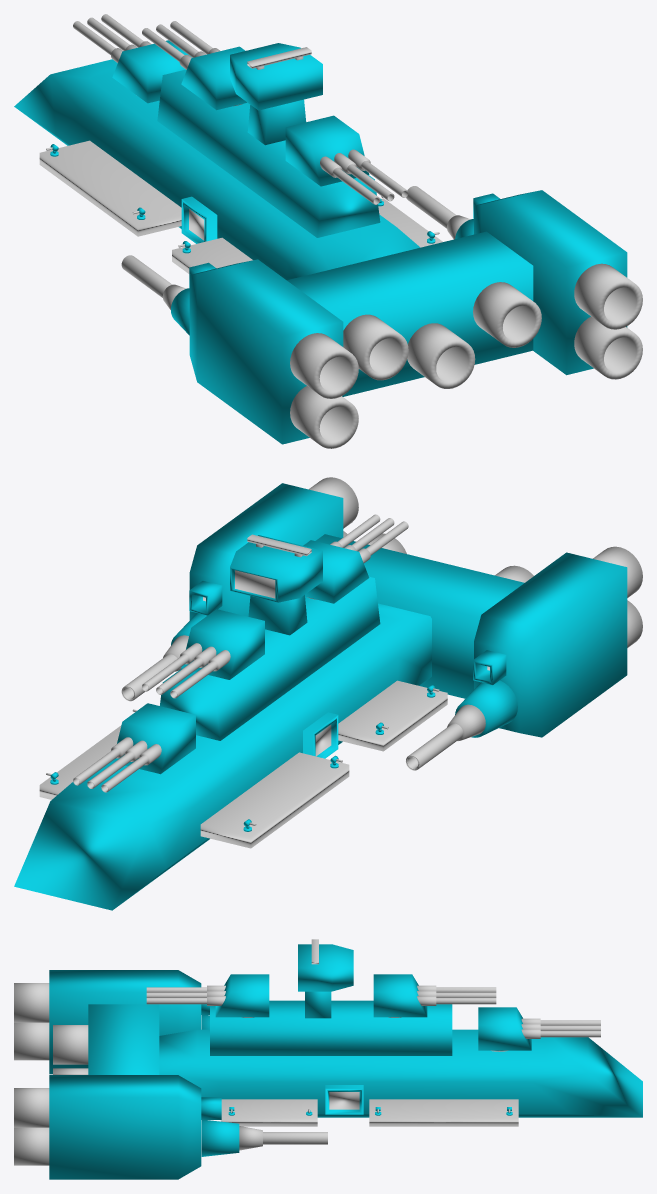
Rendered from zcarrier1.fbx.
3 views of the same model, one above another, from view 1: azimuth 30°, elevation 25°; view 2: azimuth 150°, elevation 25°; view 3: azimuth 270°, elevation 25° (orthographic). The views are drawn at different scales.
Visible parts, largest first — view 1: Cube.002, Hull, Cube.007, Cube.004, enginemid.002, Cube.001, enginemid.001, enginemid.003, Cube, Cube.012, enginemid, Cube.003 (+9 smaller); view 2: Hull, Cube.002, Cube.004, Cube.007, Cube.001, Cube, Cube.003, Cube.010, Cube.008, Cube.012, Cylinder.002, enginemid.002 (+9 smaller); view 3: Hull, Cube.002, Cube.004, Cube.007, Cube.001, enginemid.002, enginemid.003, Cube.003, Cube, Cube.010, Cube.012, Cube.008 (+13 smaller).
Part boxes in pixels (x1,y1,x2,y2): Cube.002: [189, 190, 627, 444]; Hull: [14, 59, 419, 280]; Cube.007: [287, 231, 533, 396]; Cube.004: [157, 69, 380, 237]; enginemid.002: [290, 263, 642, 398]; Cube.001: [39, 140, 181, 236]; enginemid.001: [343, 282, 541, 380]; enginemid.003: [290, 316, 642, 448]; Cube: [230, 43, 322, 110]; Cube.012: [285, 115, 369, 186]; enginemid: [407, 323, 475, 388]; Cube.003: [172, 198, 442, 273]; Hull: [14, 603, 431, 910]; Cube.002: [189, 483, 627, 737]; Cube.004: [160, 576, 380, 740]; Cube.007: [315, 534, 524, 698]; Cube.001: [39, 725, 349, 848]; Cube: [230, 535, 322, 602]; Cube.003: [338, 680, 447, 751]; Cube.010: [181, 609, 264, 679]; Cube.008: [112, 703, 195, 774]; Cube.012: [303, 540, 369, 603]; Cylinder.002: [171, 613, 517, 737]; enginemid.002: [309, 477, 642, 597]; Hull: [159, 1029, 642, 1117]; Cube.002: [49, 970, 201, 1179]; Cube.004: [210, 1000, 452, 1055]; Cube.007: [88, 1004, 159, 1074]; Cube.001: [369, 1099, 518, 1126]; enginemid.002: [14, 983, 49, 1127]; enginemid.003: [14, 1022, 49, 1165]; Cube.003: [220, 1099, 317, 1126]; Cube: [298, 944, 353, 991]; Cube.010: [373, 974, 427, 1017]; Cube.012: [215, 974, 269, 1017]; Cube.008: [478, 1007, 531, 1050].
Bounding box in the file's own units: 6071 × 3667 × 12649.
